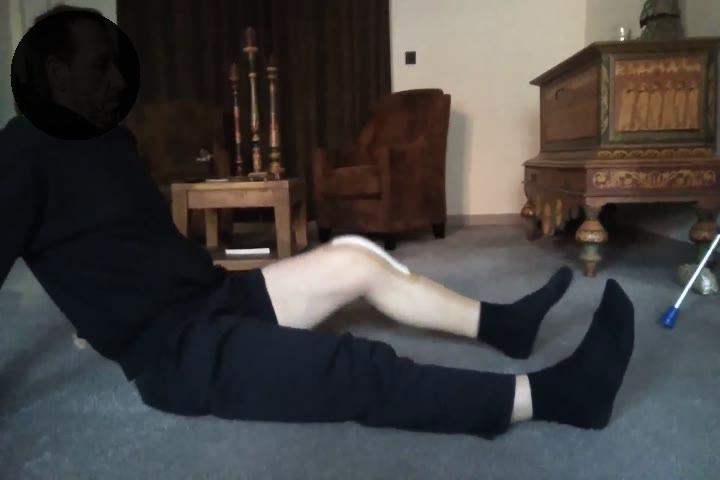lowerbody: (132, 218, 647, 450)
